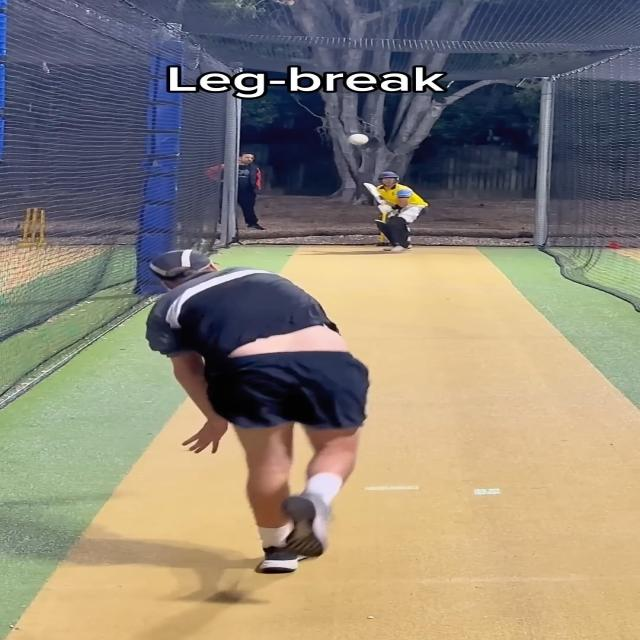Cricket ball: (348, 133, 370, 146)
